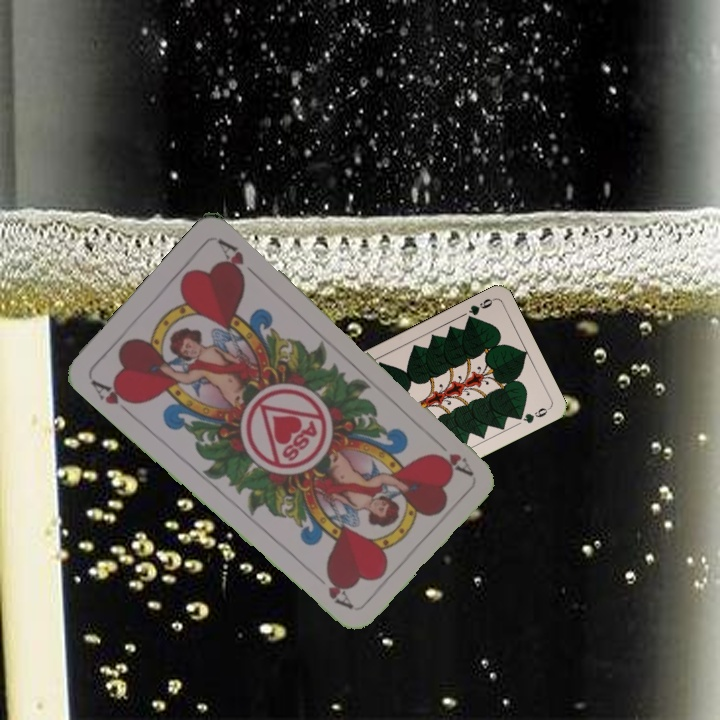G9: (462, 294, 496, 325)
HA: (87, 375, 139, 419), (433, 448, 475, 478)
